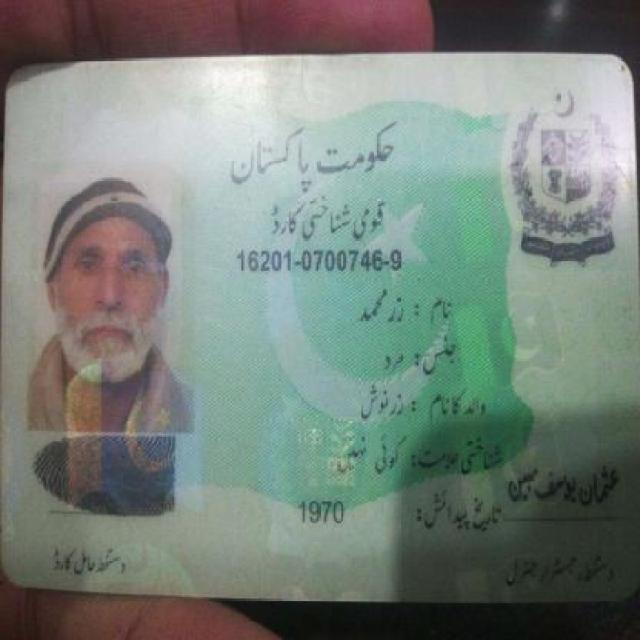Front: (3, 49, 637, 609)
